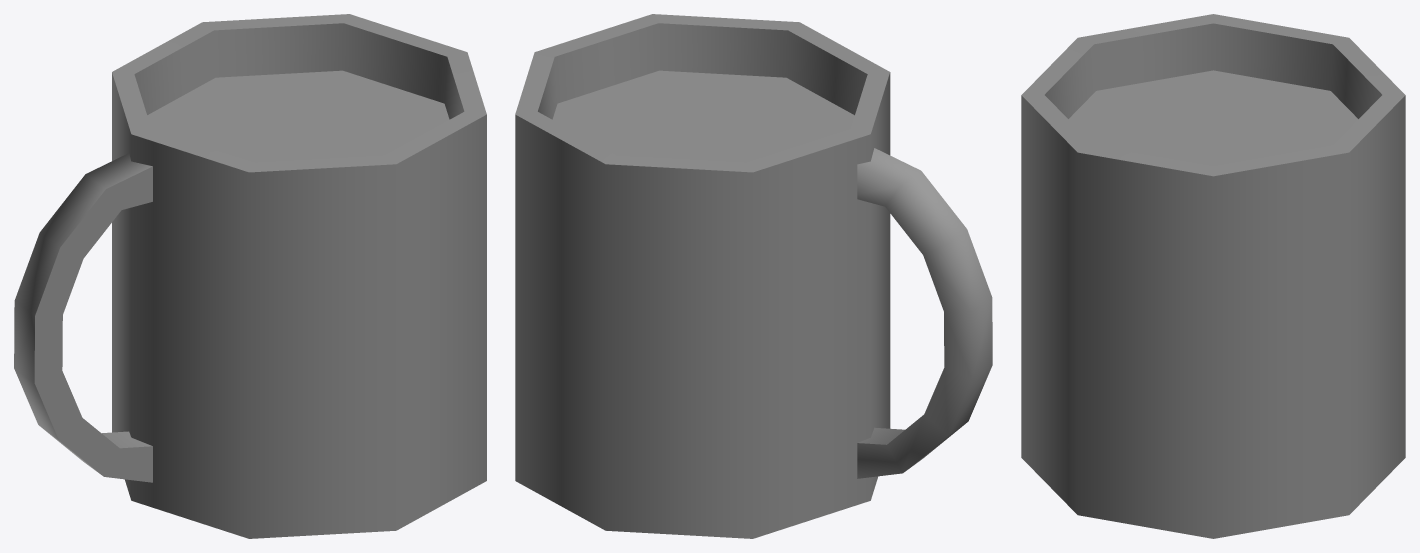
File: CoffeeMug_01_snaps001.fbx
3 views of the same model, side by side, from view 1: azimuth 30°, elevation 25°; view 2: azimuth 150°, elevation 25°; view 3: azimuth 270°, elevation 25° (orthographic).
Visible parts, largest first — view 1: CoffeeMug_01_snaps001; view 2: CoffeeMug_01_snaps001; view 3: CoffeeMug_01_snaps001.
Boxes of the visible parts, bbox=[...] form: CoffeeMug_01_snaps001: bbox=[14, 14, 486, 538]; CoffeeMug_01_snaps001: bbox=[515, 14, 992, 538]; CoffeeMug_01_snaps001: bbox=[1021, 14, 1405, 538].
Bounding box in the file's own units: 0.159 × 0.1251 × 0.12.
Materials: 1 (1 with a texture image).
